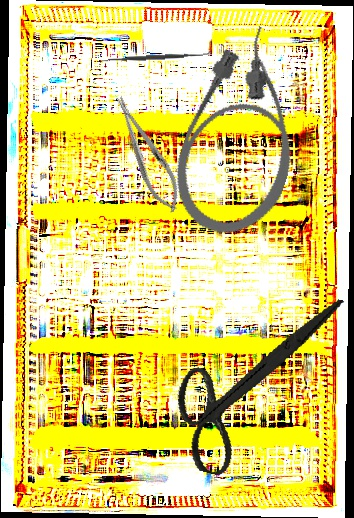Cannula: (160, 15, 329, 248)
Iris Scissors: (160, 267, 346, 495)
Needle Holder: (106, 90, 189, 218)
Spatula Surgical: (99, 48, 212, 66)
